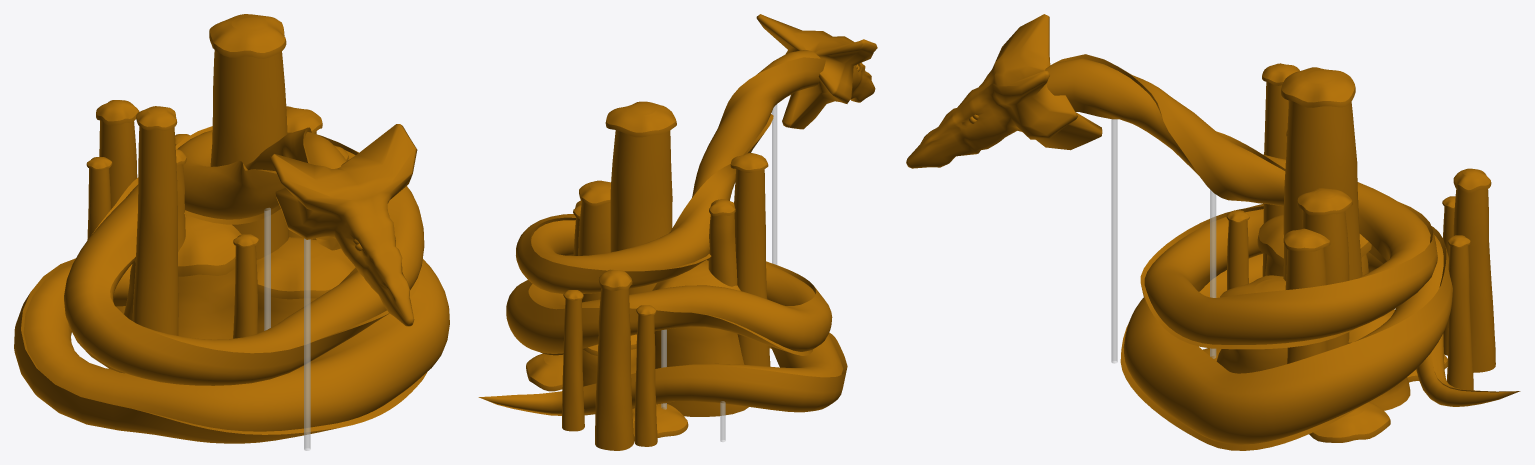
Rendered from Feature Janowin.fbx.
3 renders of one model, left to right at view 1: azimuth 30°, elevation 25°; view 2: azimuth 150°, elevation 25°; view 3: azimuth 270°, elevation 25°, orthographic. The views are drawn at different scales.
Visible parts, largest first — view 1: JANOWIN NEW PLS FIX; view 2: JANOWIN NEW PLS FIX; view 3: JANOWIN NEW PLS FIX.
Part boxes in pixels (x1,y1,x2,y2): JANOWIN NEW PLS FIX: (14, 14, 449, 450); JANOWIN NEW PLS FIX: (478, 14, 877, 450); JANOWIN NEW PLS FIX: (906, 14, 1520, 450).
Size of the model in its own units: 345 by 293 by 505.
